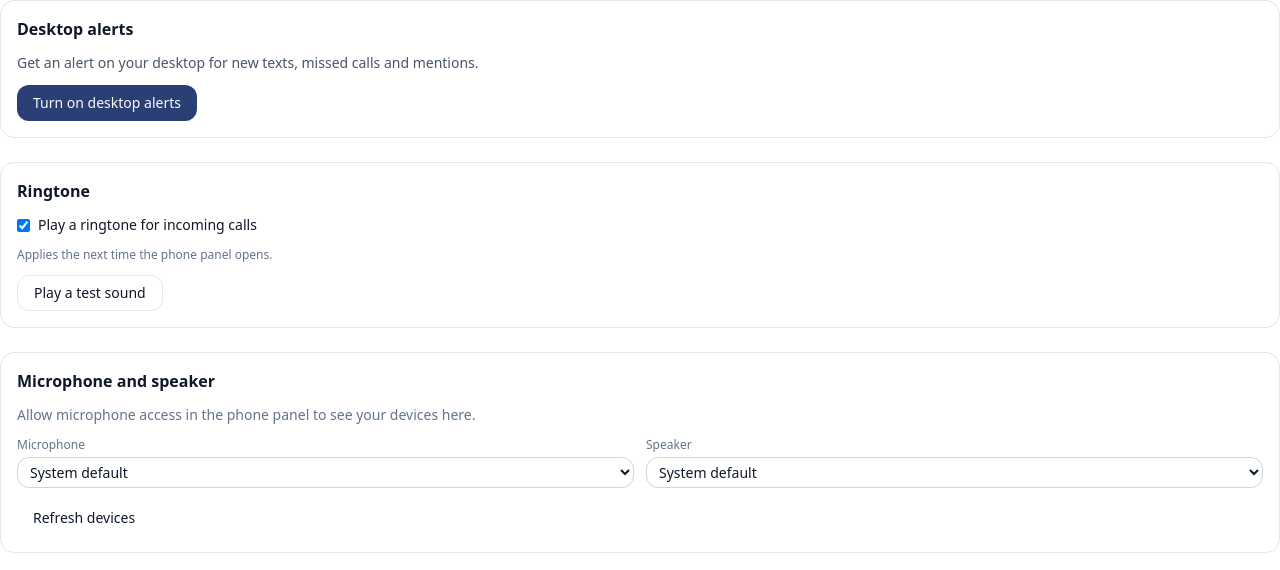
Scenario: NotificationsSoundPage desktop alerts › offers the enable button while permission is still default
Check: the text "Get an alert on your desktop for new texts, missed calls and mentions." is shown, box [17,53,479,72]
Click the button "Turn on desktop alerts": {"x": 107, "y": 103} [17,85,197,121]
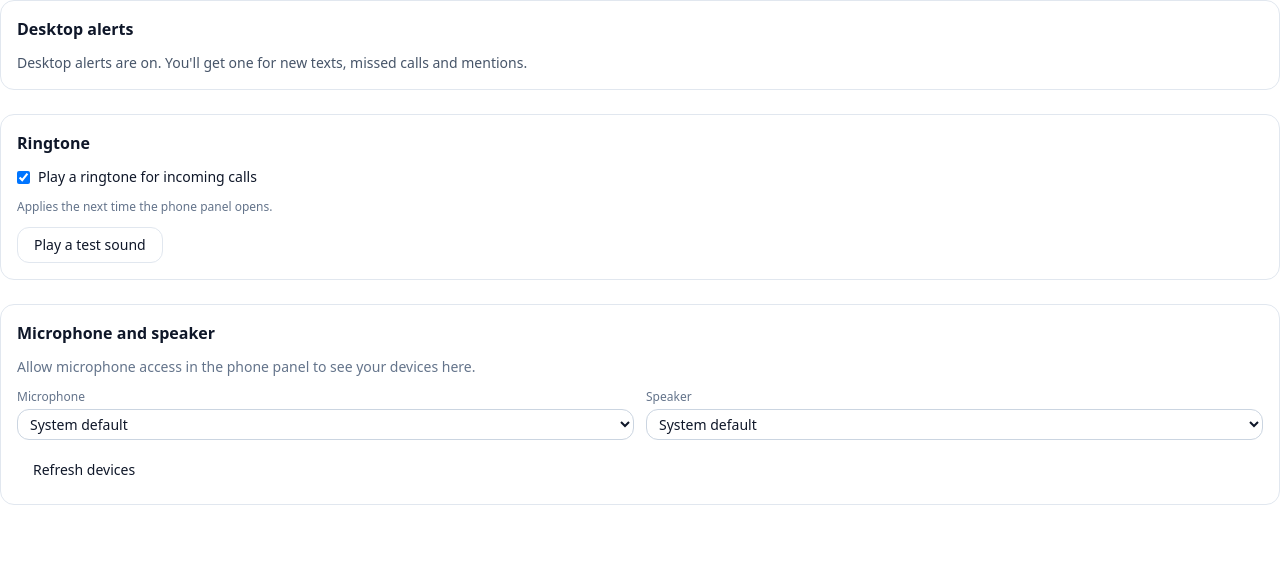
Check: the text "Desktop alerts are on. You'll get one for new texts, missed calls and mentions." is shown, box [17,53,527,72]
Check: the button "Turn on desktop alerts" is gone
